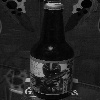beer: (25, 2, 80, 100)
